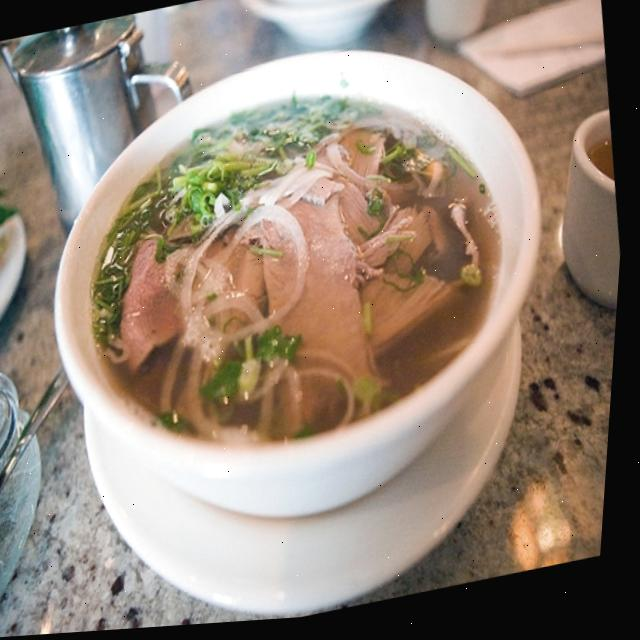面条主食: (5, 0, 619, 632)
